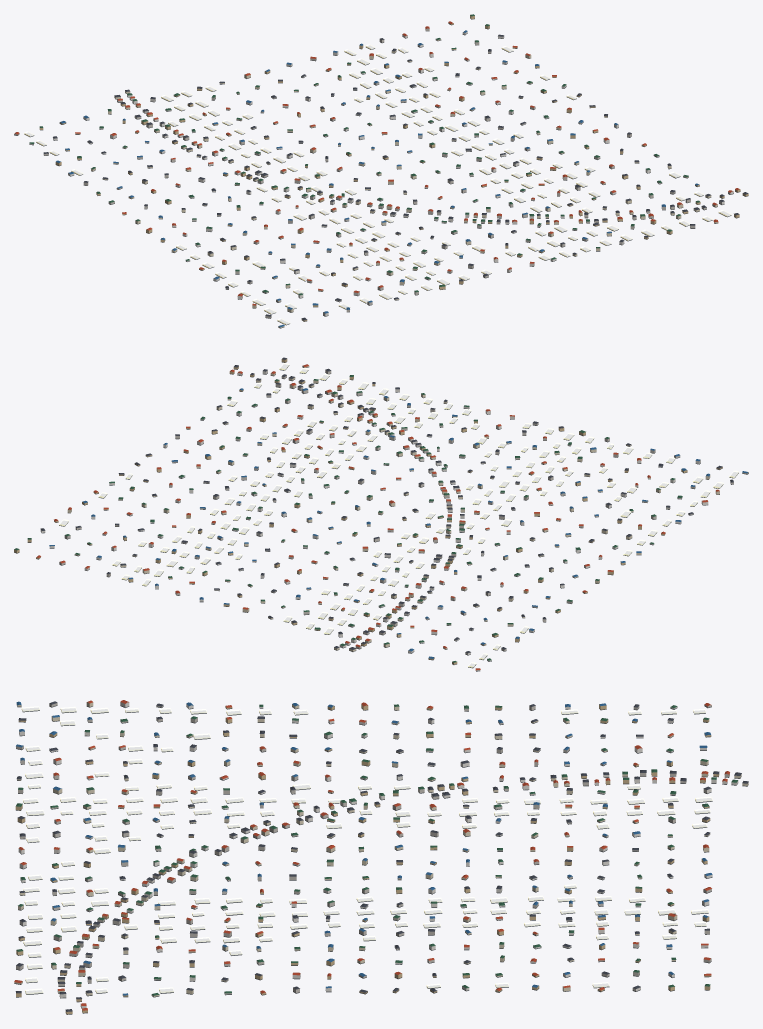
Rendered from buildings_T_W01_S06.glb.
3 renders of one model, top to bottom at view 1: azimuth 30°, elevation 25°; view 2: azimuth 150°, elevation 25°; view 3: azimuth 270°, elevation 25°, orthographic. The views are drawn at different scales.
Parts seen in each view (by area): view 1: T_W01_S06_slope_seating_foundations, T_W01_S06_roofs_agri_greenhouse_arch, T_W01_S06_roofs_roof_slate_French_villa_hip, T_W01_S06_walls_wall_dalat_cream_stucco, T_W01_S06_walls_wall_pastel_sand_gray, T_W01_S06_walls_wall_french_ochre_villa, T_W01_S06_walls_wall_modern_warm_white, T_W01_S06_roofs_roof_pine_green_hip, T_W01_S06_roofs_roof_terracotta_gable, T_W01_S06_roofs_roof_highland_blue_gable; view 2: T_W01_S06_slope_seating_foundations, T_W01_S06_roofs_agri_greenhouse_arch, T_W01_S06_walls_wall_dalat_cream_stucco, T_W01_S06_roofs_roof_slate_French_villa_hip, T_W01_S06_walls_wall_pastel_sand_gray, T_W01_S06_walls_wall_french_ochre_villa, T_W01_S06_walls_wall_modern_warm_white, T_W01_S06_roofs_roof_pine_green_hip, T_W01_S06_roofs_roof_terracotta_gable, T_W01_S06_roofs_roof_highland_blue_gable; view 3: T_W01_S06_slope_seating_foundations, T_W01_S06_roofs_agri_greenhouse_arch, T_W01_S06_roofs_roof_slate_French_villa_hip, T_W01_S06_walls_wall_dalat_cream_stucco, T_W01_S06_walls_wall_pastel_sand_gray, T_W01_S06_walls_wall_french_ochre_villa, T_W01_S06_walls_wall_modern_warm_white, T_W01_S06_roofs_roof_pine_green_hip, T_W01_S06_roofs_roof_terracotta_gable, T_W01_S06_roofs_roof_highland_blue_gable.
Part boxes in pixels (<box>): T_W01_S06_slope_seating_foundations: <box>14,18,748,328</box>; T_W01_S06_roofs_agri_greenhouse_arch: <box>24,44,731,324</box>; T_W01_S06_roofs_roof_slate_French_villa_hip: <box>43,34,748,320</box>; T_W01_S06_walls_wall_dalat_cream_stucco: <box>75,39,718,327</box>; T_W01_S06_walls_wall_pastel_sand_gray: <box>14,28,706,318</box>; T_W01_S06_walls_wall_french_ochre_villa: <box>39,15,748,321</box>; T_W01_S06_walls_wall_modern_warm_white: <box>29,31,733,316</box>; T_W01_S06_roofs_roof_pine_green_hip: <box>29,14,699,295</box>; T_W01_S06_roofs_roof_terracotta_gable: <box>14,21,739,305</box>; T_W01_S06_roofs_roof_highland_blue_gable: <box>56,30,699,327</box>; T_W01_S06_slope_seating_foundations: <box>14,362,748,671</box>; T_W01_S06_roofs_agri_greenhouse_arch: <box>59,363,738,667</box>; T_W01_S06_walls_wall_dalat_cream_stucco: <box>67,366,748,651</box>; T_W01_S06_roofs_roof_slate_French_villa_hip: <box>40,357,733,653</box>; T_W01_S06_walls_wall_pastel_sand_gray: <box>59,370,733,670</box>; T_W01_S06_walls_wall_french_ochre_villa: <box>14,359,722,664</box>; T_W01_S06_walls_wall_modern_warm_white: <box>40,370,708,661</box>; T_W01_S06_roofs_roof_pine_green_hip: <box>14,375,682,662</box>; T_W01_S06_roofs_roof_terracotta_gable: <box>36,364,719,670</box>; T_W01_S06_roofs_roof_highland_blue_gable: <box>49,388,747,658</box>; T_W01_S06_slope_seating_foundations: <box>14,705,748,1014</box>; T_W01_S06_roofs_agri_greenhouse_arch: <box>21,706,712,994</box>; T_W01_S06_roofs_roof_slate_French_villa_hip: <box>15,701,748,1011</box>; T_W01_S06_walls_wall_dalat_cream_stucco: <box>14,702,748,996</box>; T_W01_S06_walls_wall_pastel_sand_gray: <box>16,703,729,994</box>; T_W01_S06_walls_wall_french_ochre_villa: <box>15,704,719,1014</box>; T_W01_S06_walls_wall_modern_warm_white: <box>18,702,738,1008</box>; T_W01_S06_roofs_roof_pine_green_hip: <box>16,704,737,995</box>; T_W01_S06_roofs_roof_terracotta_gable: <box>14,700,729,1010</box>; T_W01_S06_roofs_roof_highland_blue_gable: <box>16,701,712,995</box>.
Size of the model in its own units: 1850 by 39.39 by 1846.
